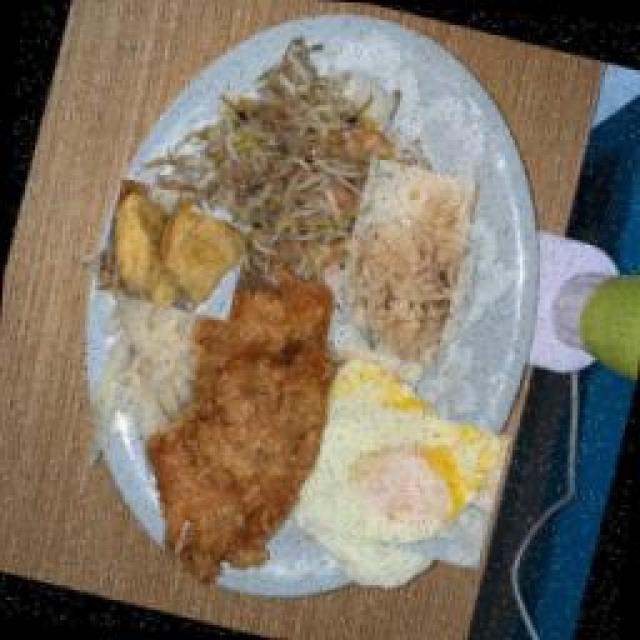chicken_nuggets: (93, 177, 258, 325)
fried_chicken: (128, 252, 363, 600)
fried_eggs: (273, 363, 498, 588)
mung_bean_sprouts: (198, 78, 388, 268)
rice: (322, 152, 480, 370)
